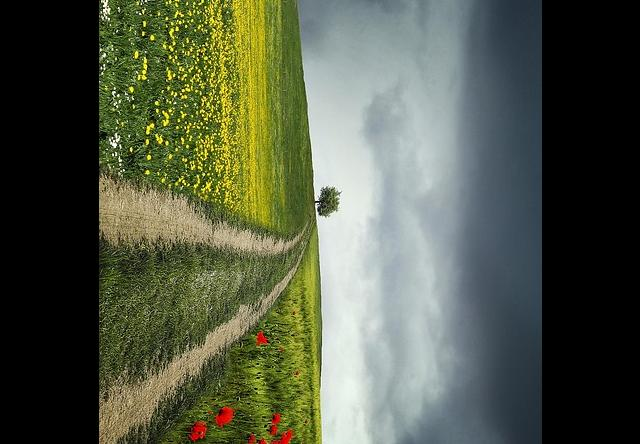Non_Gorille: (98, 13, 521, 444)
